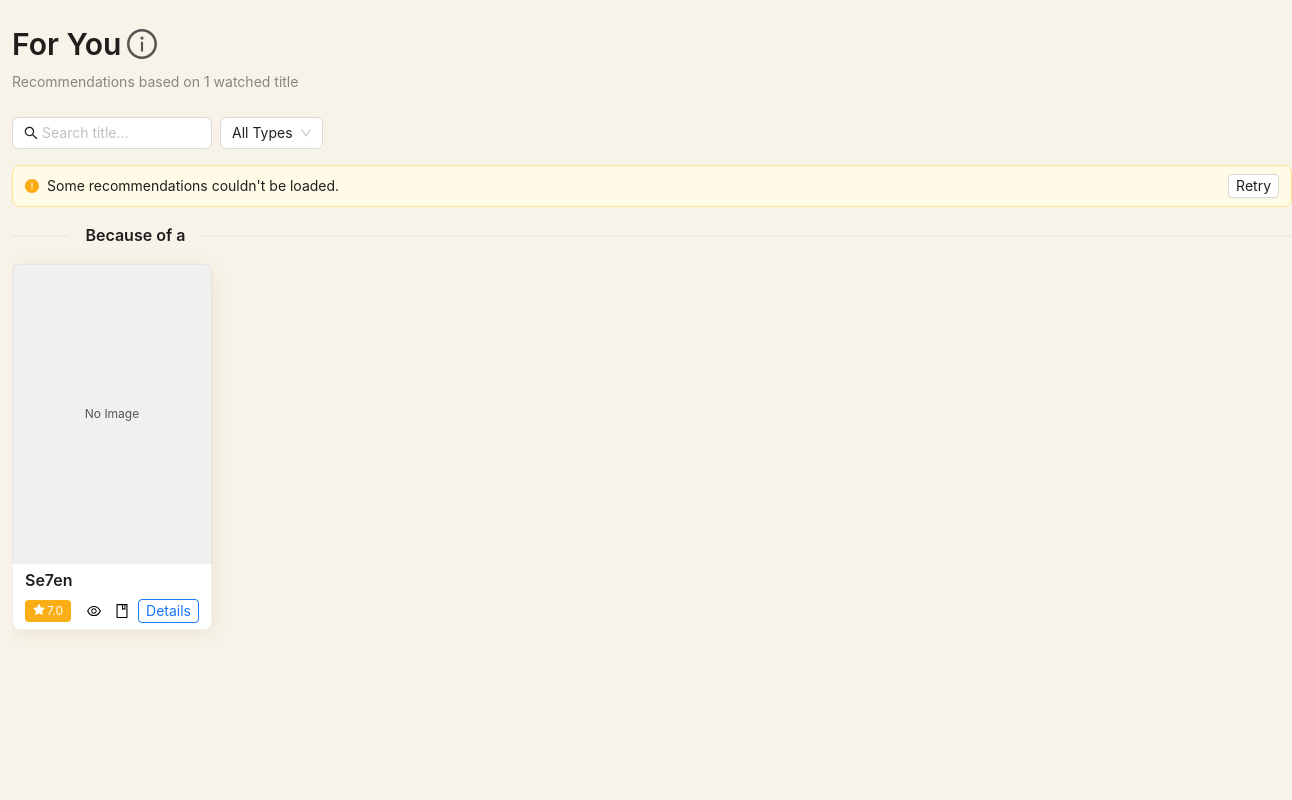
Retry refetches every group
This screenshot has width=1292, height=800.
Click the button "Retry": (1254, 186) [1228,174,1279,198]
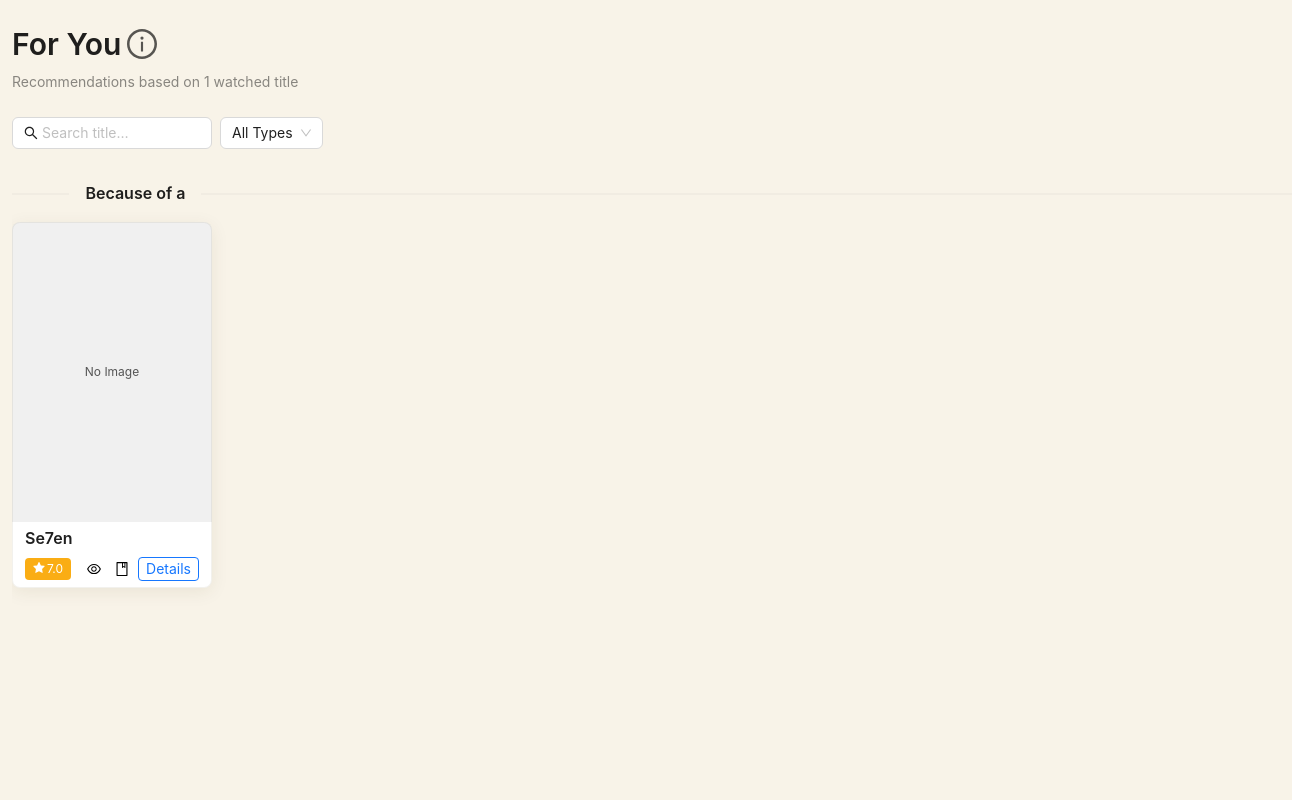
Expected: the text "Se7en" is shown, [25,528,72,548]
Result: the text "Some recommendations couldn't be loaded." is gone
